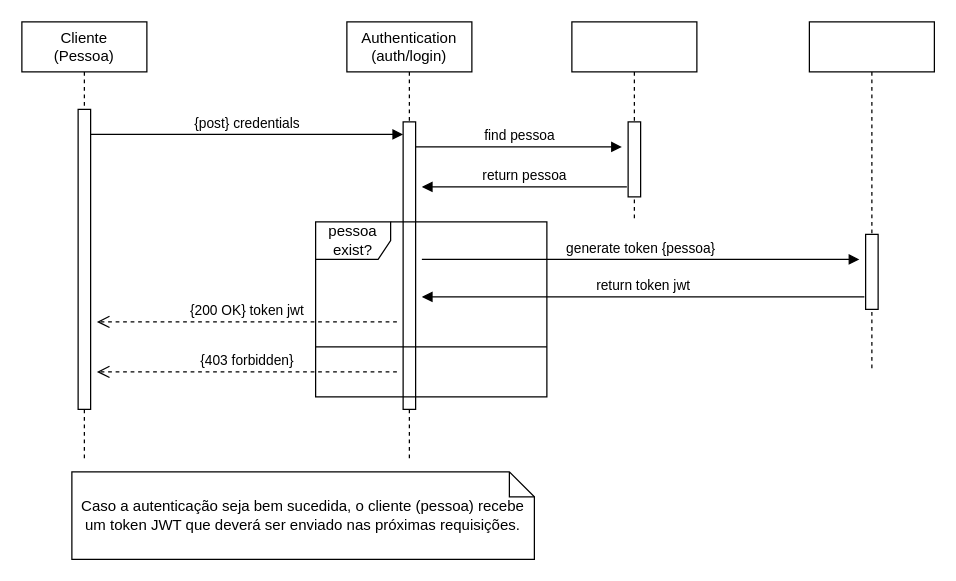
Image size: 956x581. Some labels were removed from this diagram. Here are the shapes that lost their labels. From the top down, the box of each, then its label:
(571, 21, 697, 222): Database (H2)
(808, 21, 934, 372): TokenService
